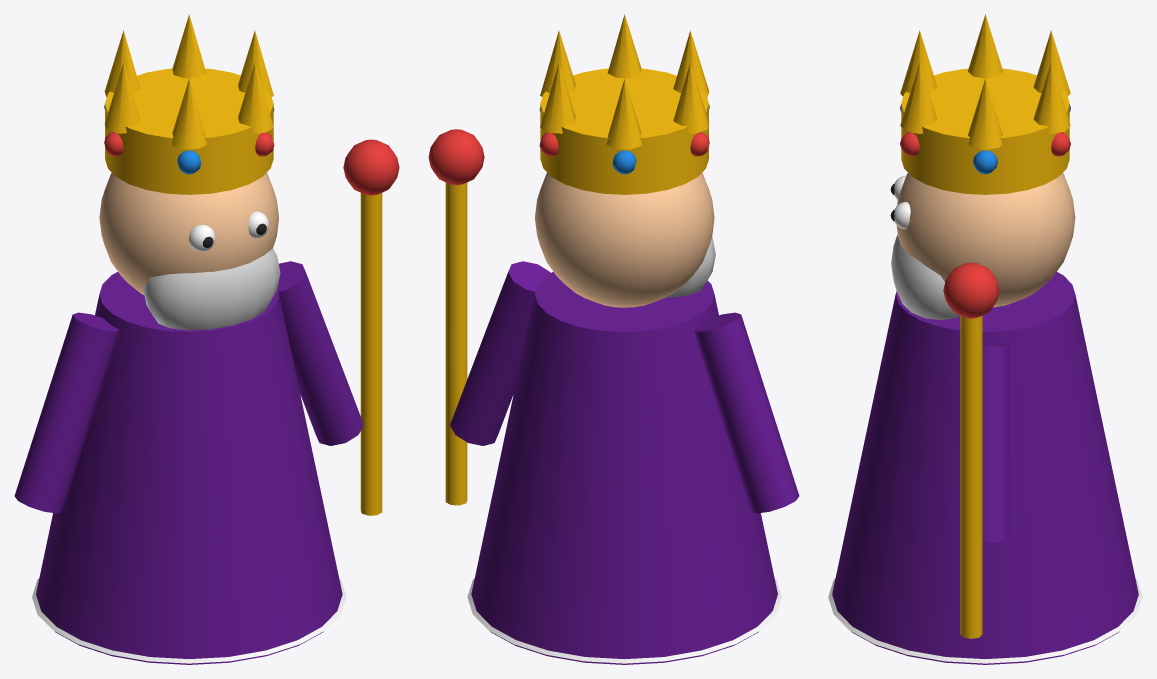
The model's file is king.glb.
The picture shows the model from 3 angles, left to right: view 1: azimuth 30°, elevation 25°; view 2: azimuth 150°, elevation 25°; view 3: azimuth 270°, elevation 25°; orthographic projection.
Parts seen in each view (by area): view 1: king; view 2: king; view 3: king.
Part boxes in pixels (x1,y1,x2,y2): king: (14, 14, 399, 664); king: (428, 14, 799, 664); king: (828, 14, 1142, 664).
Size of the model in its own units: 1.52 by 2.17 by 1.12.
